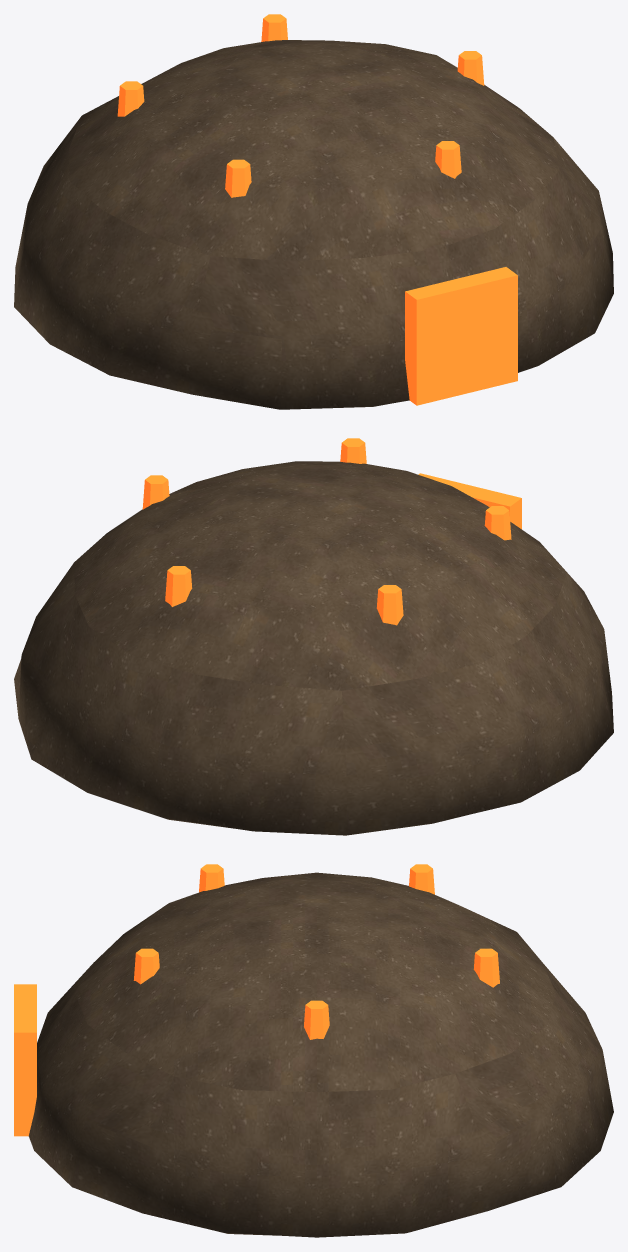
The model's file is charcoal_kiln.glb.
The picture shows the model from 3 angles, top to bottom: view 1: azimuth 30°, elevation 25°; view 2: azimuth 150°, elevation 25°; view 3: azimuth 270°, elevation 25°; orthographic projection. The views are drawn at different scales.
Parts seen in each view (by area): view 1: Dome, Vents; view 2: Dome, Vents; view 3: Dome, Vents.
Boxes of the visible parts, box(x1,y1,x2,y2) form: Dome: box(14, 40, 613, 409); Vents: box(117, 14, 517, 405); Dome: box(14, 461, 613, 835); Vents: box(142, 438, 521, 625); Dome: box(28, 872, 613, 1237); Vents: box(14, 864, 499, 1136).
Size of what is drawn, in the model's own units: 5.2 by 2.15 by 5.25.
Materials: 2 (1 with a texture image).
